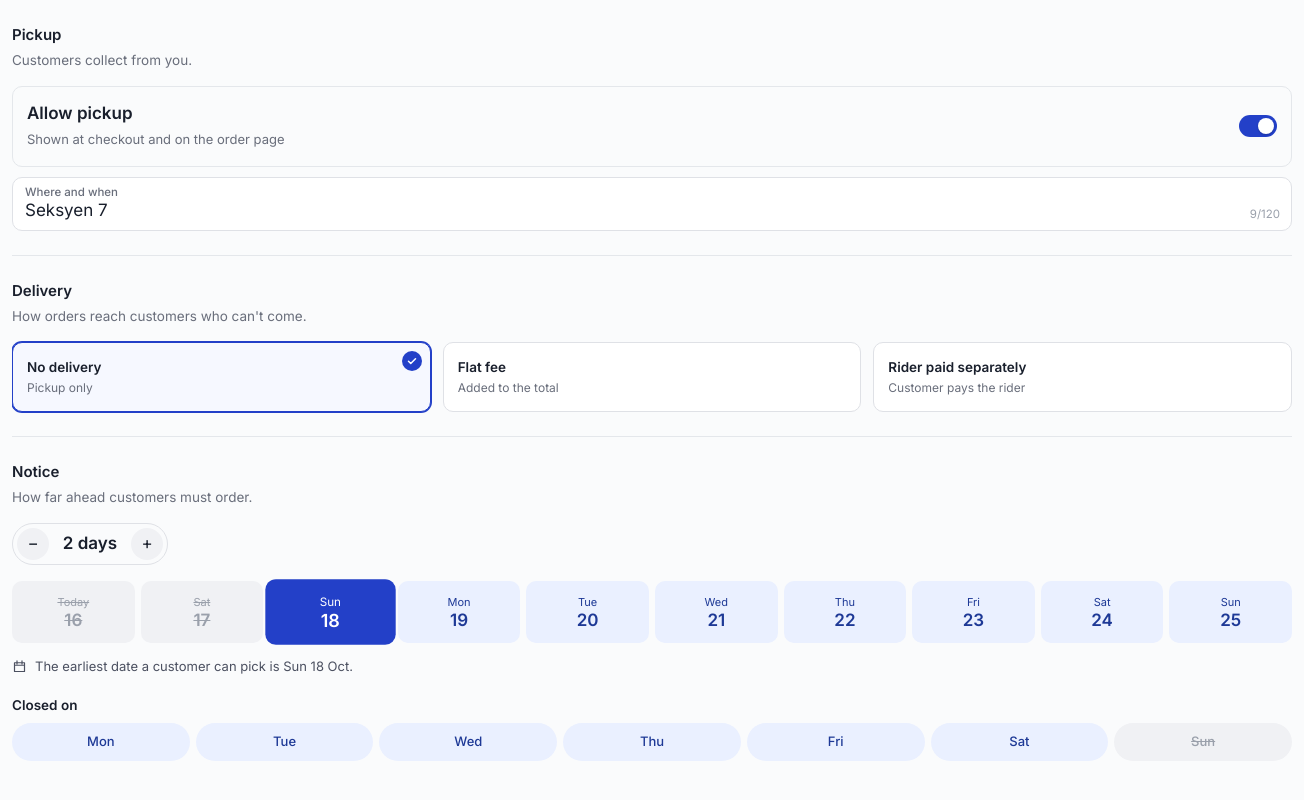
Test: DeliveryTab, delivery › waits for a fee before sending flat delivery, then sends the two together, in sen
Click the button "Flat fee Added to the total" at (482, 367), box [443,342,861,412]
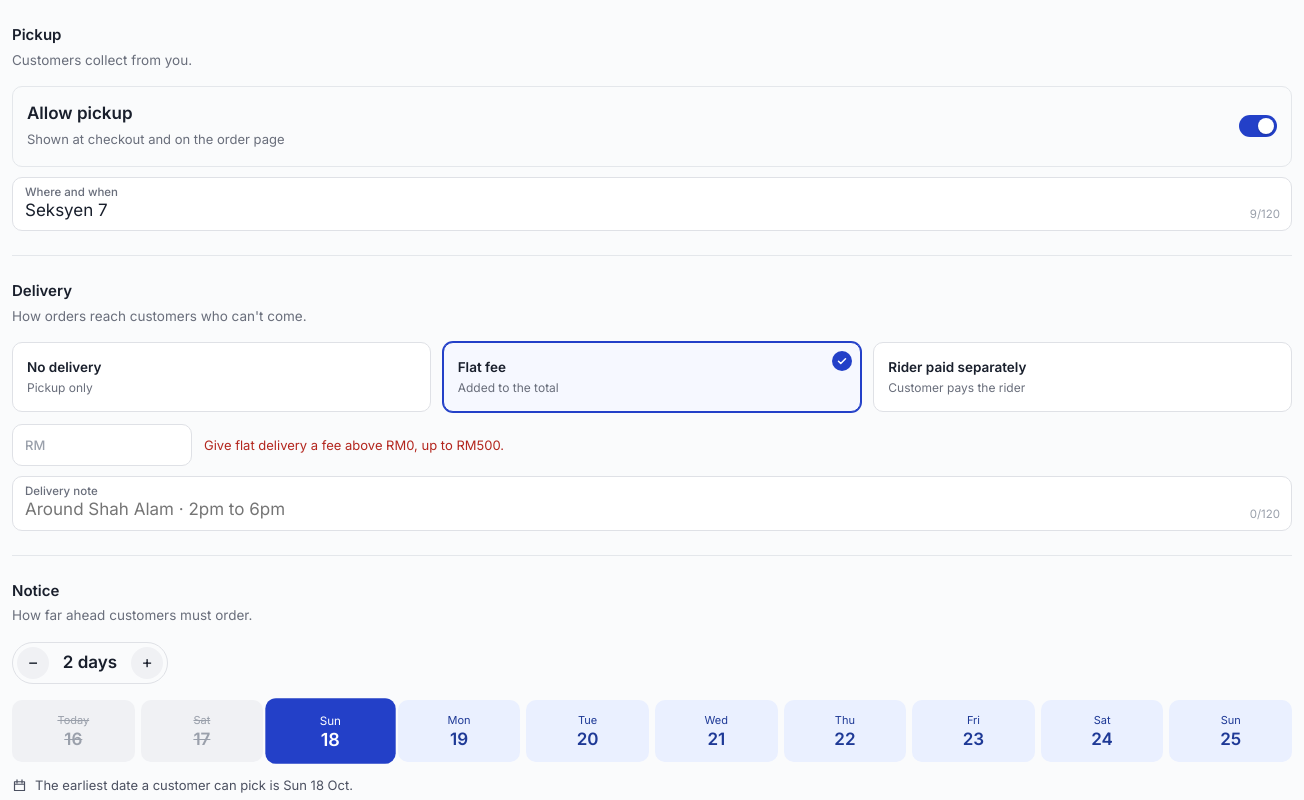
Expected: the text "Give flat delivery a fee above RM0, up to RM500." is shown, [204,436,504,455]
Type "10.50" into the field named "Delivery fee in ringgit" at (115, 445), box [51,425,179,465]
Wait 600 ms
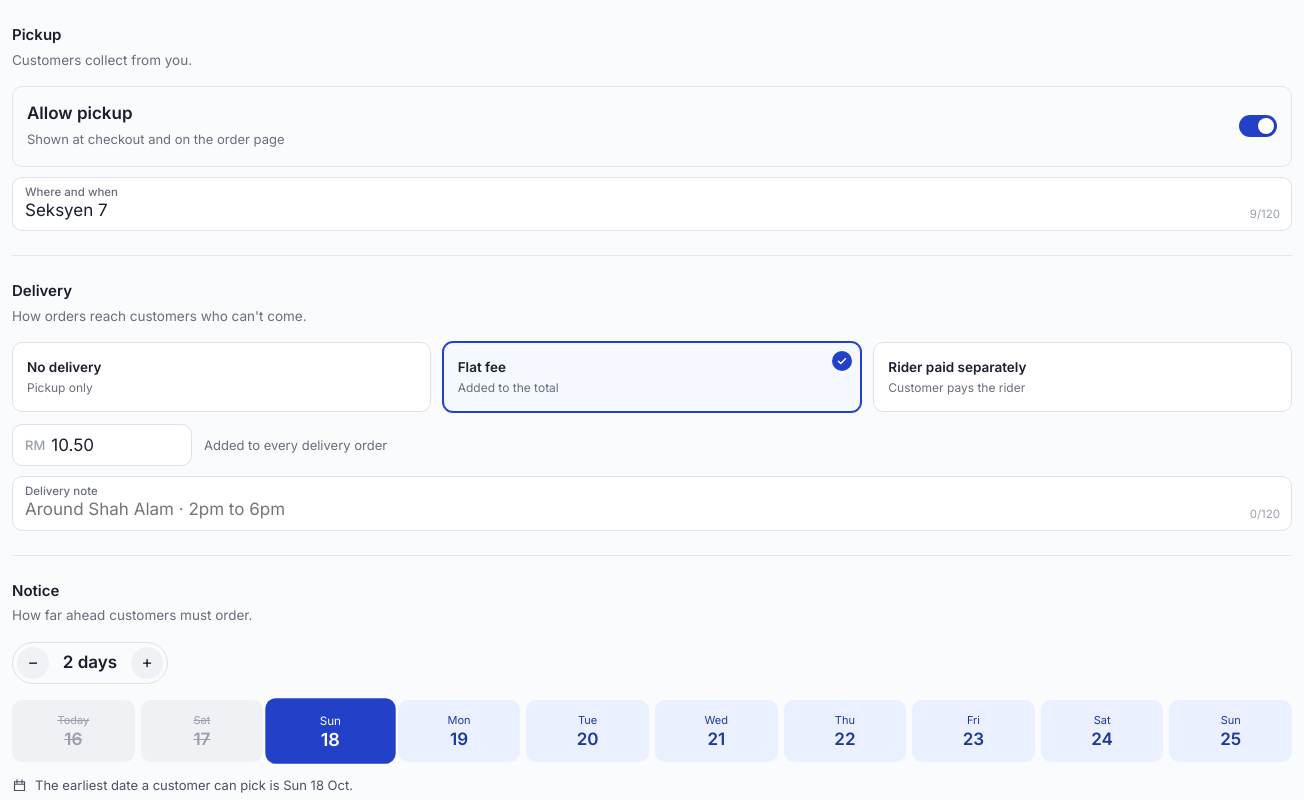
Expected: the text "Added to every delivery order" is shown, [204,436,387,455]
